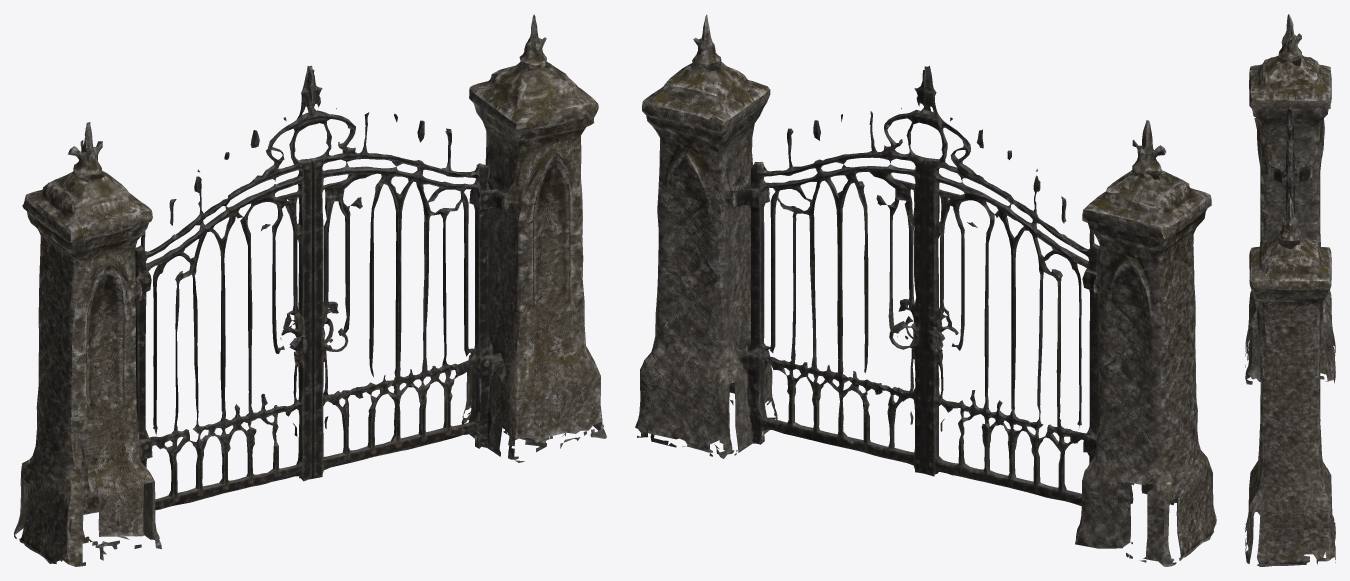
The picture shows the model from 3 angles, left to right: view 1: azimuth 30°, elevation 25°; view 2: azimuth 150°, elevation 25°; view 3: azimuth 270°, elevation 25°; orthographic projection. The views are drawn at different scales.
Bounding box in the file's own units: 1.9 × 1.4 × 0.3268.
1 material, 1 textured.
